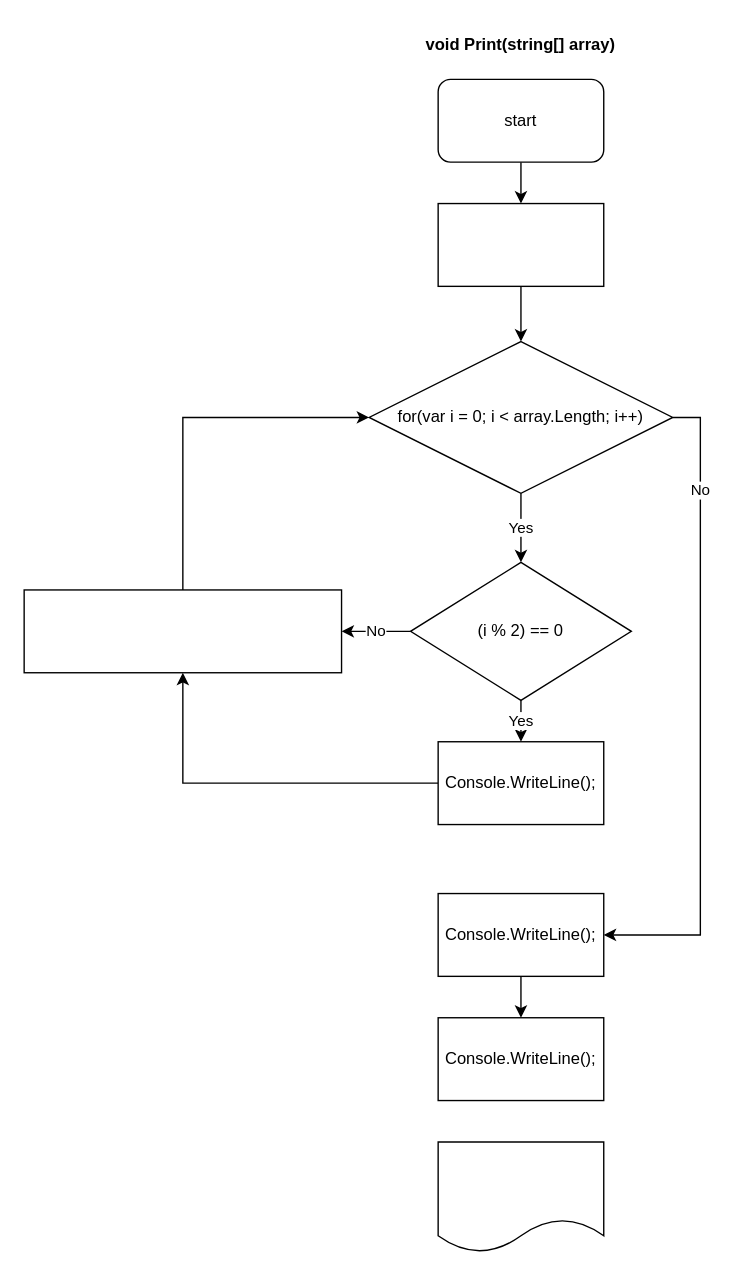
This 736x1277 diagram has some shape labels left out. Each missing label, with the centre of its shape:
(string[] array): the point at 520,244
Console.Write($"\t{i} => {array[i]}");: the point at 182,631
return: the point at 520,1196
